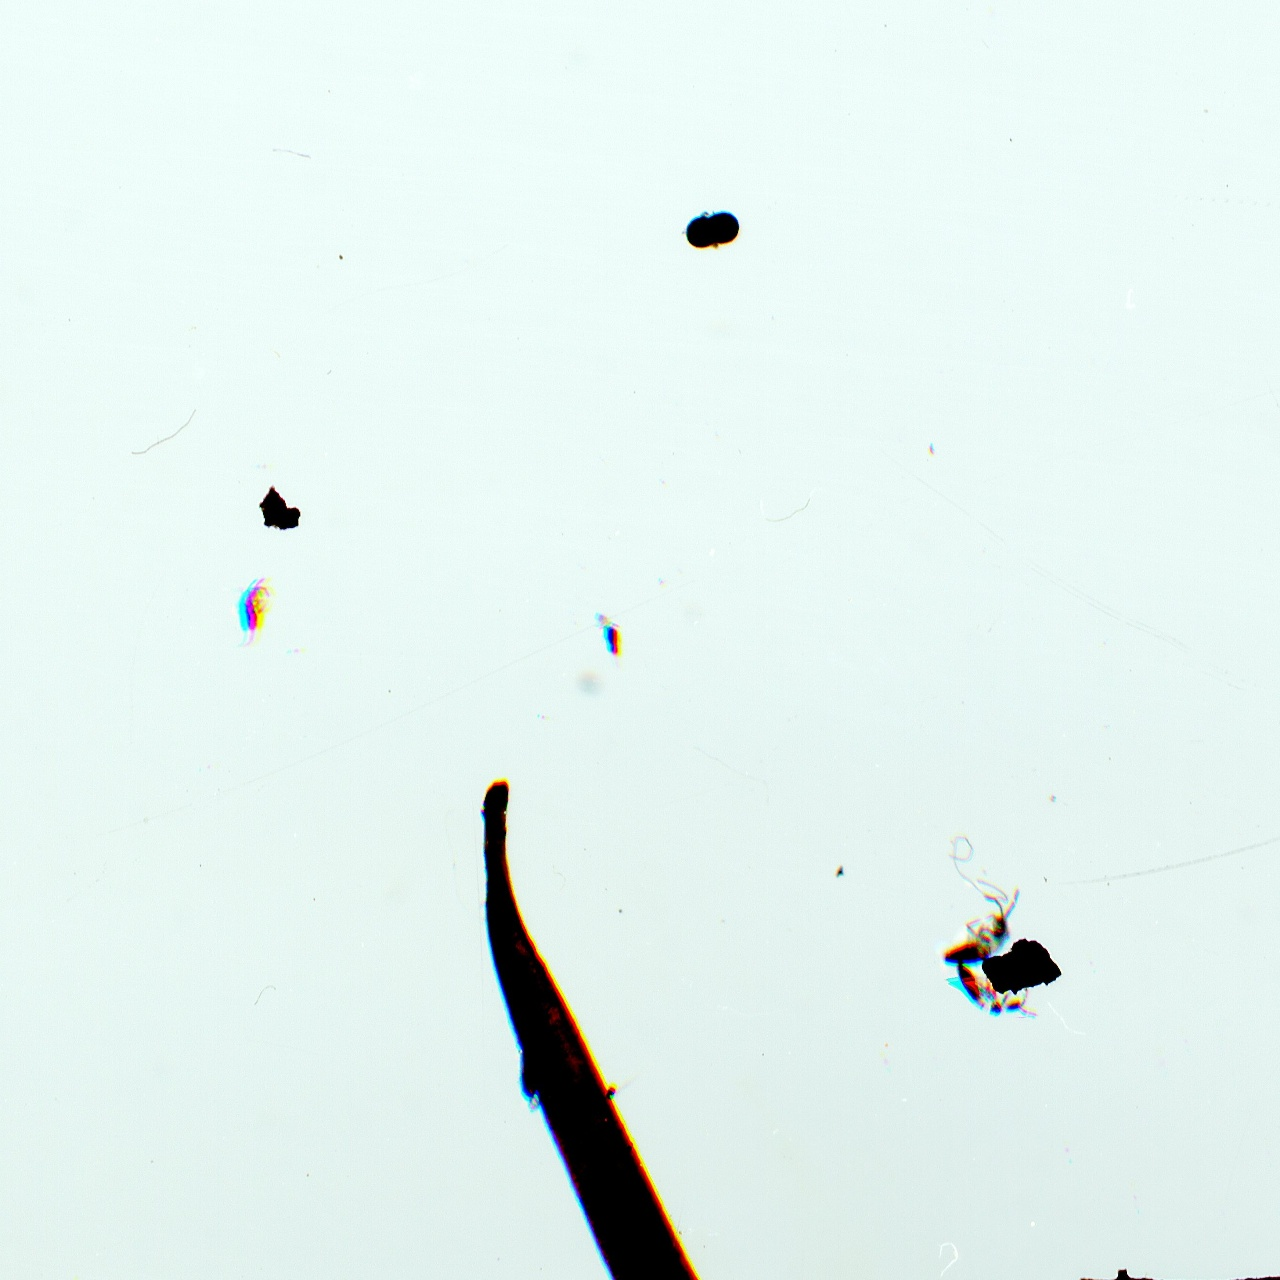arthropod: (940, 885, 1026, 974), (944, 959, 1042, 1023), (230, 570, 280, 652), (680, 204, 745, 256), (597, 613, 627, 670)
